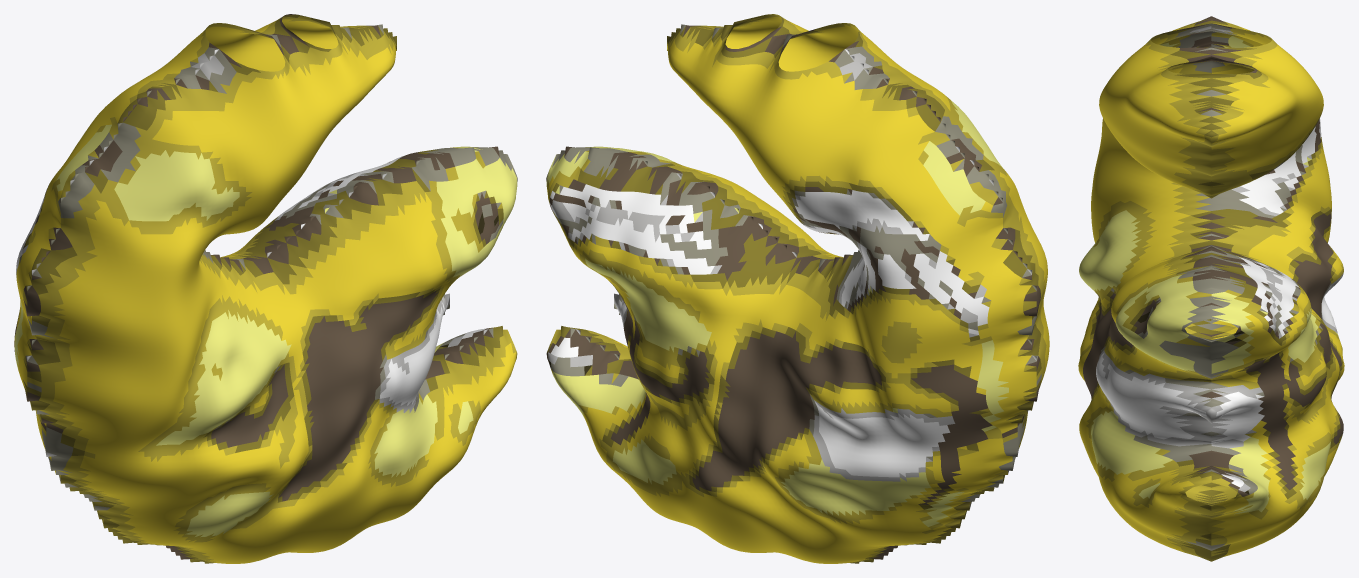
Rendered from nootillunar.glb.
3 views of the same model, side by side, from view 1: azimuth 30°, elevation 25°; view 2: azimuth 150°, elevation 25°; view 3: azimuth 270°, elevation 25° (orthographic). The views are drawn at different scales.
Visible parts, largest first — view 1: nootillunar; view 2: nootillunar; view 3: nootillunar.
Part boxes in pixels (x1,y1,x2,y2): nootillunar: (14, 14, 517, 563); nootillunar: (546, 14, 1049, 563); nootillunar: (1078, 16, 1344, 561).
Size of the model in its own units: 657 by 674 by 337.
